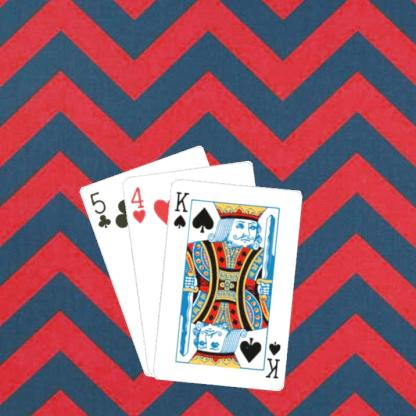4H: (127, 184, 147, 224)
5C: (87, 189, 112, 229)
KS: (258, 334, 282, 379), (170, 188, 190, 230)
